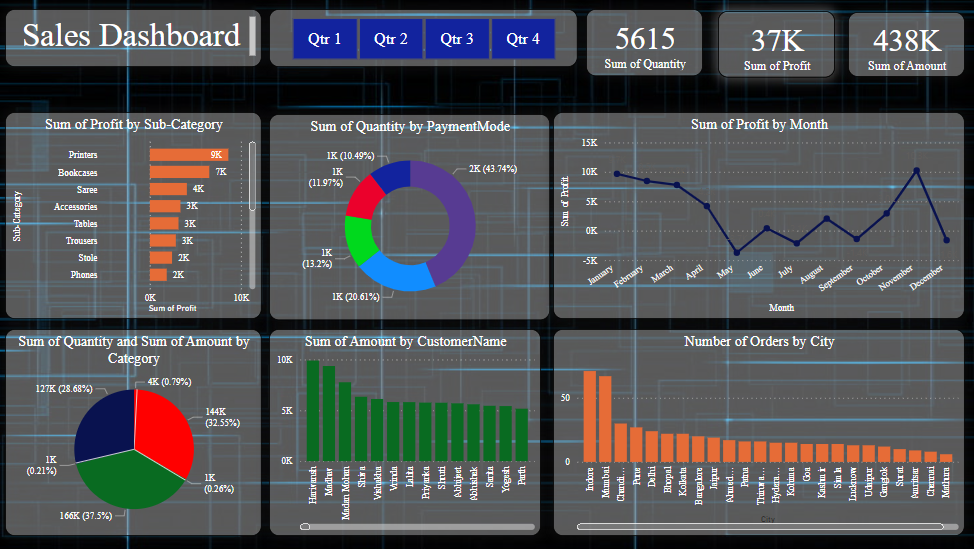

The dashboard page shown, as its layout file describes it:
{"tool":"powerbi","page":{"name":"Page 1","canvas":[1280,720],"ordinal":0},"visuals":[{"type":"textbox","box":[9,12,336,76],"z":0},{"type":"slicer","fields":{"Values":["Orders.Order Date.Variation.Date Hierarchy.Quarter"]},"box":[355,12,404,76],"z":1000},{"type":"card","fields":{"Values":["Details.Quantity"]},"box":[770,12,153,88],"z":2000},{"type":"card","fields":{"Values":["Details.Profit"]},"box":[942.8,13.8,153,86.7],"z":3000},{"type":"card","fields":{"Values":["Details.Amount"]},"box":[1112.1,15.1,152.8,85.3],"z":4000},{"type":"barChart","fields":{"Category":["Details.Sub-Category"],"Y":["Details.Profit"]},"box":[9.6,147,336,271],"z":5000},{"type":"donutChart","fields":{"Category":["Details.PaymentMode"],"Y":["Details.Quantity"]},"box":[355,149,368,270],"z":6000},{"type":"lineChart","fields":{"Category":["Orders.Order Date.Variation.Date Hierarchy.Month"],"Y":["Details.Profit"]},"box":[727,147,539,271],"z":7000},{"type":"pieChart","fields":{"Category":["Details.Category"],"Y":["Details.Quantity","Details.Amount"]},"box":[9,431,336,271],"z":8000},{"type":"lineStackedColumnComboChart","fields":{"Category":["Orders.CustomerName"],"Y":["Details.Amount"]},"box":[355,431,356,271],"z":9000},{"type":"lineStackedColumnComboChart","title":"Number of Orders by City","fields":{"Category":["Orders.City"],"Y":["Orders.Order ID"]},"box":[727,431,539,271],"z":10000}]}

Visuals, with their boxes in screenshot pixels (x1, y1, x2, y2), scaled from the page's 1280x720 canvas onto the 974x549 screenshot:
textbox: (7, 9, 263, 67)
slicer - Orders.Order Date.Variation.Date Hierarchy.Quarter: (270, 9, 578, 67)
card - Details.Quantity: (586, 9, 702, 76)
card - Details.Profit: (717, 11, 834, 77)
card - Details.Amount: (846, 12, 963, 77)
barChart - Details.Sub-Category x Details.Profit: (7, 112, 263, 319)
donutChart - Details.PaymentMode x Details.Quantity: (270, 114, 550, 319)
lineChart - Orders.Order Date.Variation.Date Hierarchy.Month x Details.Profit: (553, 112, 963, 319)
pieChart - Details.Category x Details.Quantity: (7, 329, 263, 535)
lineStackedColumnComboChart - Orders.CustomerName x Details.Amount: (270, 329, 541, 535)
"Number of Orders by City" lineStackedColumnComboChart: (553, 329, 963, 535)
